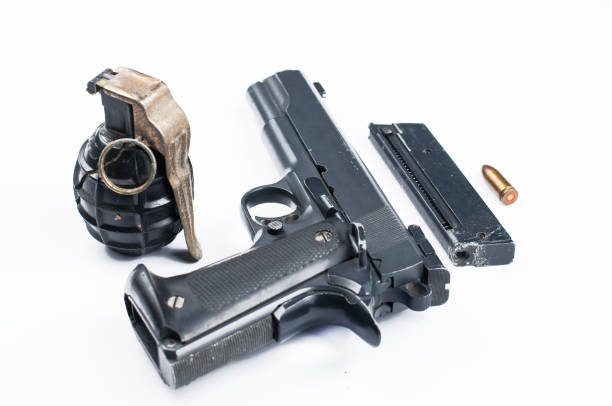e1: (76, 66, 200, 258)
